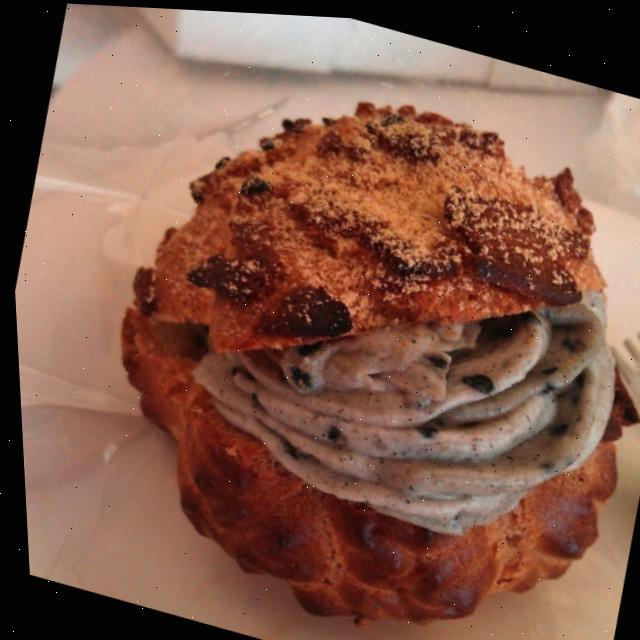炸货点心: (6, 8, 640, 640)
蛋糕甜品: (6, 8, 640, 640)
